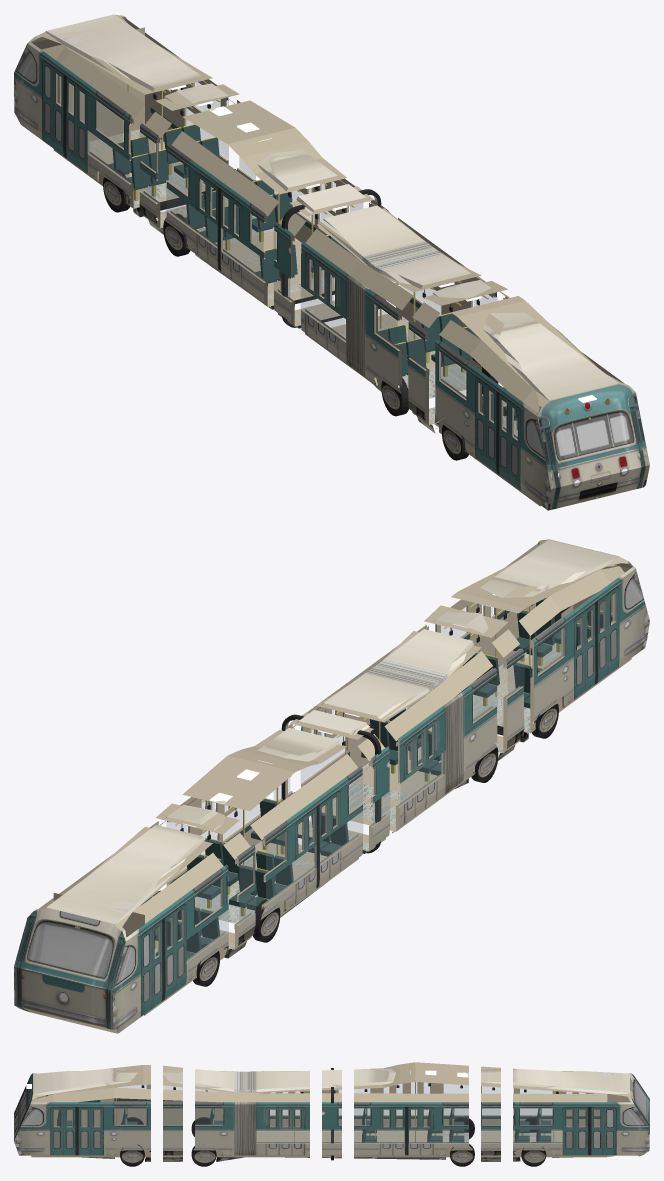
Rendered from tram.glb.
3 views of the same model, one above another, from view 1: azimuth 30°, elevation 25°; view 2: azimuth 150°, elevation 25°; view 3: azimuth 270°, elevation 25° (orthographic). The views are drawn at different scales.
Parts seen in each view (by area): view 1: tram_6, tram_0, tram_interior_2, tram_4, tram_2, tram_interior_0, tram_interior_4, tram_interior_6, tram_3, tram_interior_1, tram_1, tram_5 (+6 smaller); view 2: tram_0, tram_4, tram_interior_2, tram_6, tram_interior_6, tram_2, tram_interior_4, tram_interior_0, tram_3, tram_5, tram_1, tram_interior_5 (+7 smaller); view 3: tram_0, tram_6, tram_4, tram_interior_2, tram_2, tram_interior_6, tram_interior_4, tram_interior_0, tram_3, tram_1, tram_interior_1, tram_5 (+7 smaller).
Part boxes in pixels (x1=…): tram_6: x1=435, y1=312, x2=649, y2=510; tram_0: x1=14, y1=14, x2=228, y2=217; tram_interior_2: x1=166, y1=100, x2=362, y2=306; tram_4: x1=301, y1=205, x2=496, y2=391; tram_2: x1=166, y1=107, x2=359, y2=309; tram_interior_0: x1=53, y1=27, x2=228, y2=208; tram_interior_4: x1=301, y1=208, x2=497, y2=398; tram_interior_6: x1=438, y1=296, x2=596, y2=506; tram_3: x1=274, y1=184, x2=388, y2=328; tram_interior_1: x1=139, y1=84, x2=255, y2=228; tram_1: x1=139, y1=83, x2=255, y2=234; tram_5: x1=408, y1=280, x2=507, y2=433; tram_0: x1=14, y1=825, x2=228, y2=1033; tram_4: x1=301, y1=629, x2=497, y2=832; tram_interior_2: x1=166, y1=730, x2=362, y2=923; tram_6: x1=435, y1=539, x2=649, y2=742; tram_interior_6: x1=439, y1=545, x2=631, y2=733; tram_2: x1=166, y1=728, x2=362, y2=917; tram_interior_4: x1=301, y1=631, x2=497, y2=831; tram_interior_0: x1=53, y1=826, x2=228, y2=1015; tram_3: x1=278, y1=710, x2=389, y2=853; tram_5: x1=408, y1=612, x2=524, y2=760; tram_1: x1=150, y1=804, x2=255, y2=958; tram_interior_5: x1=412, y1=605, x2=524, y2=753; tram_0: x1=513, y1=1069, x2=649, y2=1161; tram_6: x1=14, y1=1069, x2=150, y2=1161; tram_4: x1=195, y1=1069, x2=309, y2=1161; tram_interior_2: x1=354, y1=1062, x2=468, y2=1157; tram_2: x1=354, y1=1069, x2=468, y2=1159; tram_interior_6: x1=26, y1=1065, x2=150, y2=1157; tram_interior_4: x1=195, y1=1086, x2=309, y2=1157; tram_interior_0: x1=513, y1=1068, x2=607, y2=1157; tram_3: x1=322, y1=1069, x2=341, y2=1158; tram_1: x1=481, y1=1069, x2=500, y2=1161; tram_interior_1: x1=481, y1=1066, x2=500, y2=1157; tram_5: x1=163, y1=1069, x2=182, y2=1161.
Bounding box in the file's own units: 2.57 × 3.36 × 23.94.
Materials: 10 (2 with a texture image).
